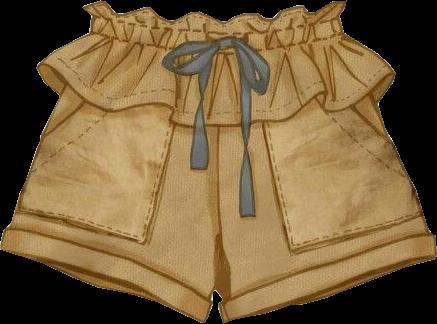Hemline: (37, 62, 394, 127), (0, 246, 204, 323), (223, 254, 436, 323)
Pantleg: (215, 0, 436, 322), (0, 1, 215, 322)
Waistline: (89, 30, 344, 56), (81, 0, 346, 24), (90, 14, 340, 35)
